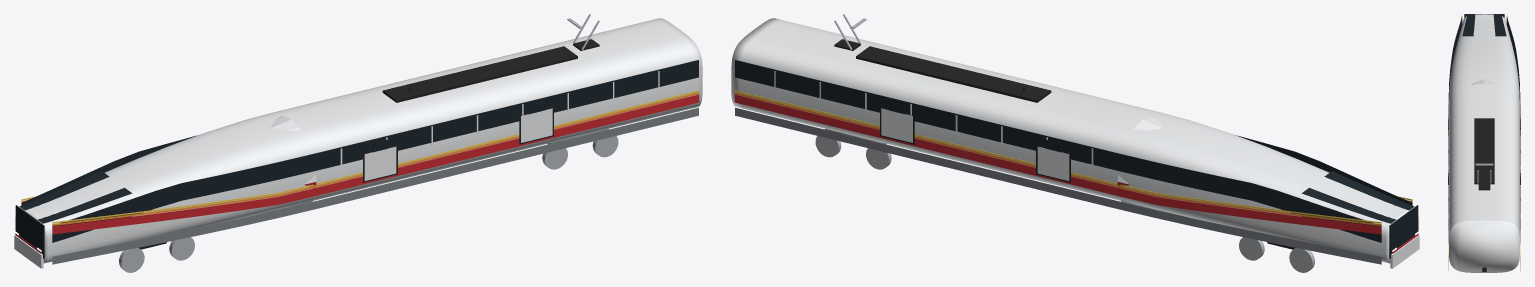
The model's file is cr400af-bs-head-lod-v008.glb.
The picture shows the model from 3 angles, left to right: view 1: azimuth 30°, elevation 25°; view 2: azimuth 150°, elevation 25°; view 3: azimuth 270°, elevation 25°; orthographic projection. The views are drawn at different scales.
Visible parts, largest first — view 1: GEO-headcar-lod, GEO-door_-1_-0.6, GEO-door_-1_5.6, GEO-nose_fairing; view 2: GEO-headcar-lod, GEO-door_1_-0.6, GEO-door_1_5.6, GEO-nose_fairing; view 3: GEO-headcar-lod, GEO-nose_fairing.
Part boxes in pixels (x1,y1,x2,y2): GEO-headcar-lod: (14, 14, 702, 272); GEO-door_-1_-0.6: (364, 146, 396, 180); GEO-door_-1_5.6: (521, 108, 552, 142); GEO-nose_fairing: (250, 116, 316, 216); GEO-headcar-lod: (731, 14, 1419, 272); GEO-door_1_-0.6: (1037, 146, 1069, 180); GEO-door_1_5.6: (881, 108, 912, 142); GEO-nose_fairing: (1117, 116, 1183, 216); GEO-headcar-lod: (1448, 14, 1520, 272); GEO-nose_fairing: (1448, 79, 1520, 115).
Bounding box in the file's own units: 25.95 × 4.84 × 3.44.
